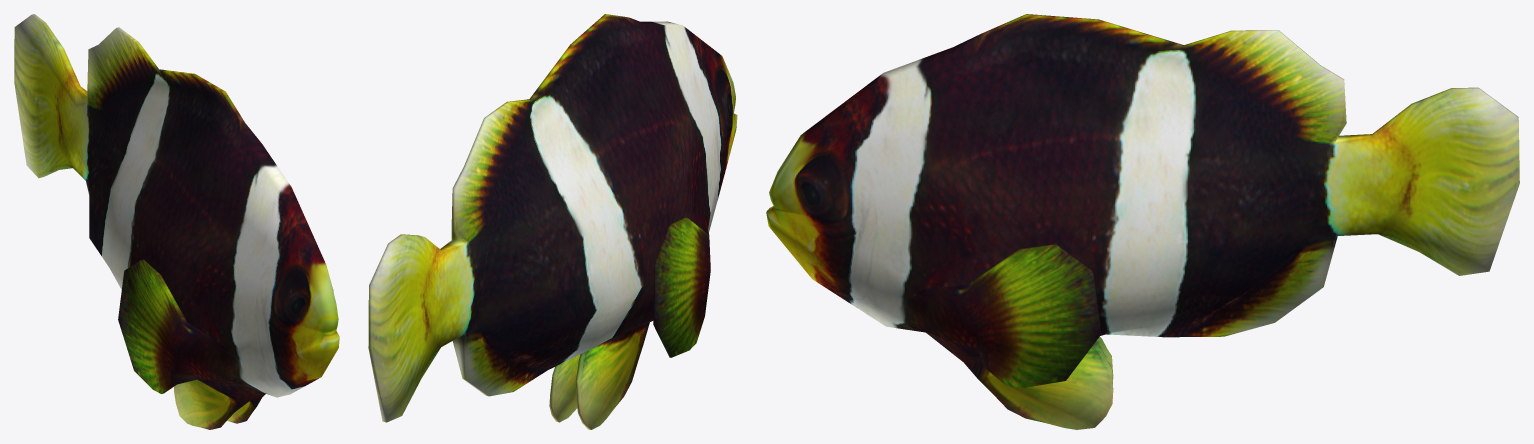
File: TropicalFish11.fbx
3 views of the same model, side by side, from view 1: azimuth 30°, elevation 25°; view 2: azimuth 150°, elevation 25°; view 3: azimuth 270°, elevation 25° (orthographic). The views are drawn at different scales.
Parts seen in each view (by area): view 1: TropicalFish11; view 2: TropicalFish11; view 3: TropicalFish11.
Part boxes in pixels (x1,y1,x2,y2): TropicalFish11: (14,14,339,429); TropicalFish11: (368,14,737,429); TropicalFish11: (766,14,1519,429).
Size of the model in its own units: 135 by 493 by 293.
